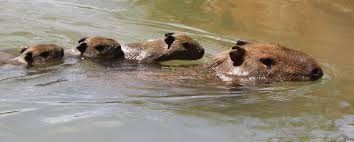capivara: (194, 40, 324, 95), (123, 32, 205, 69), (8, 42, 65, 73), (68, 35, 122, 67)
